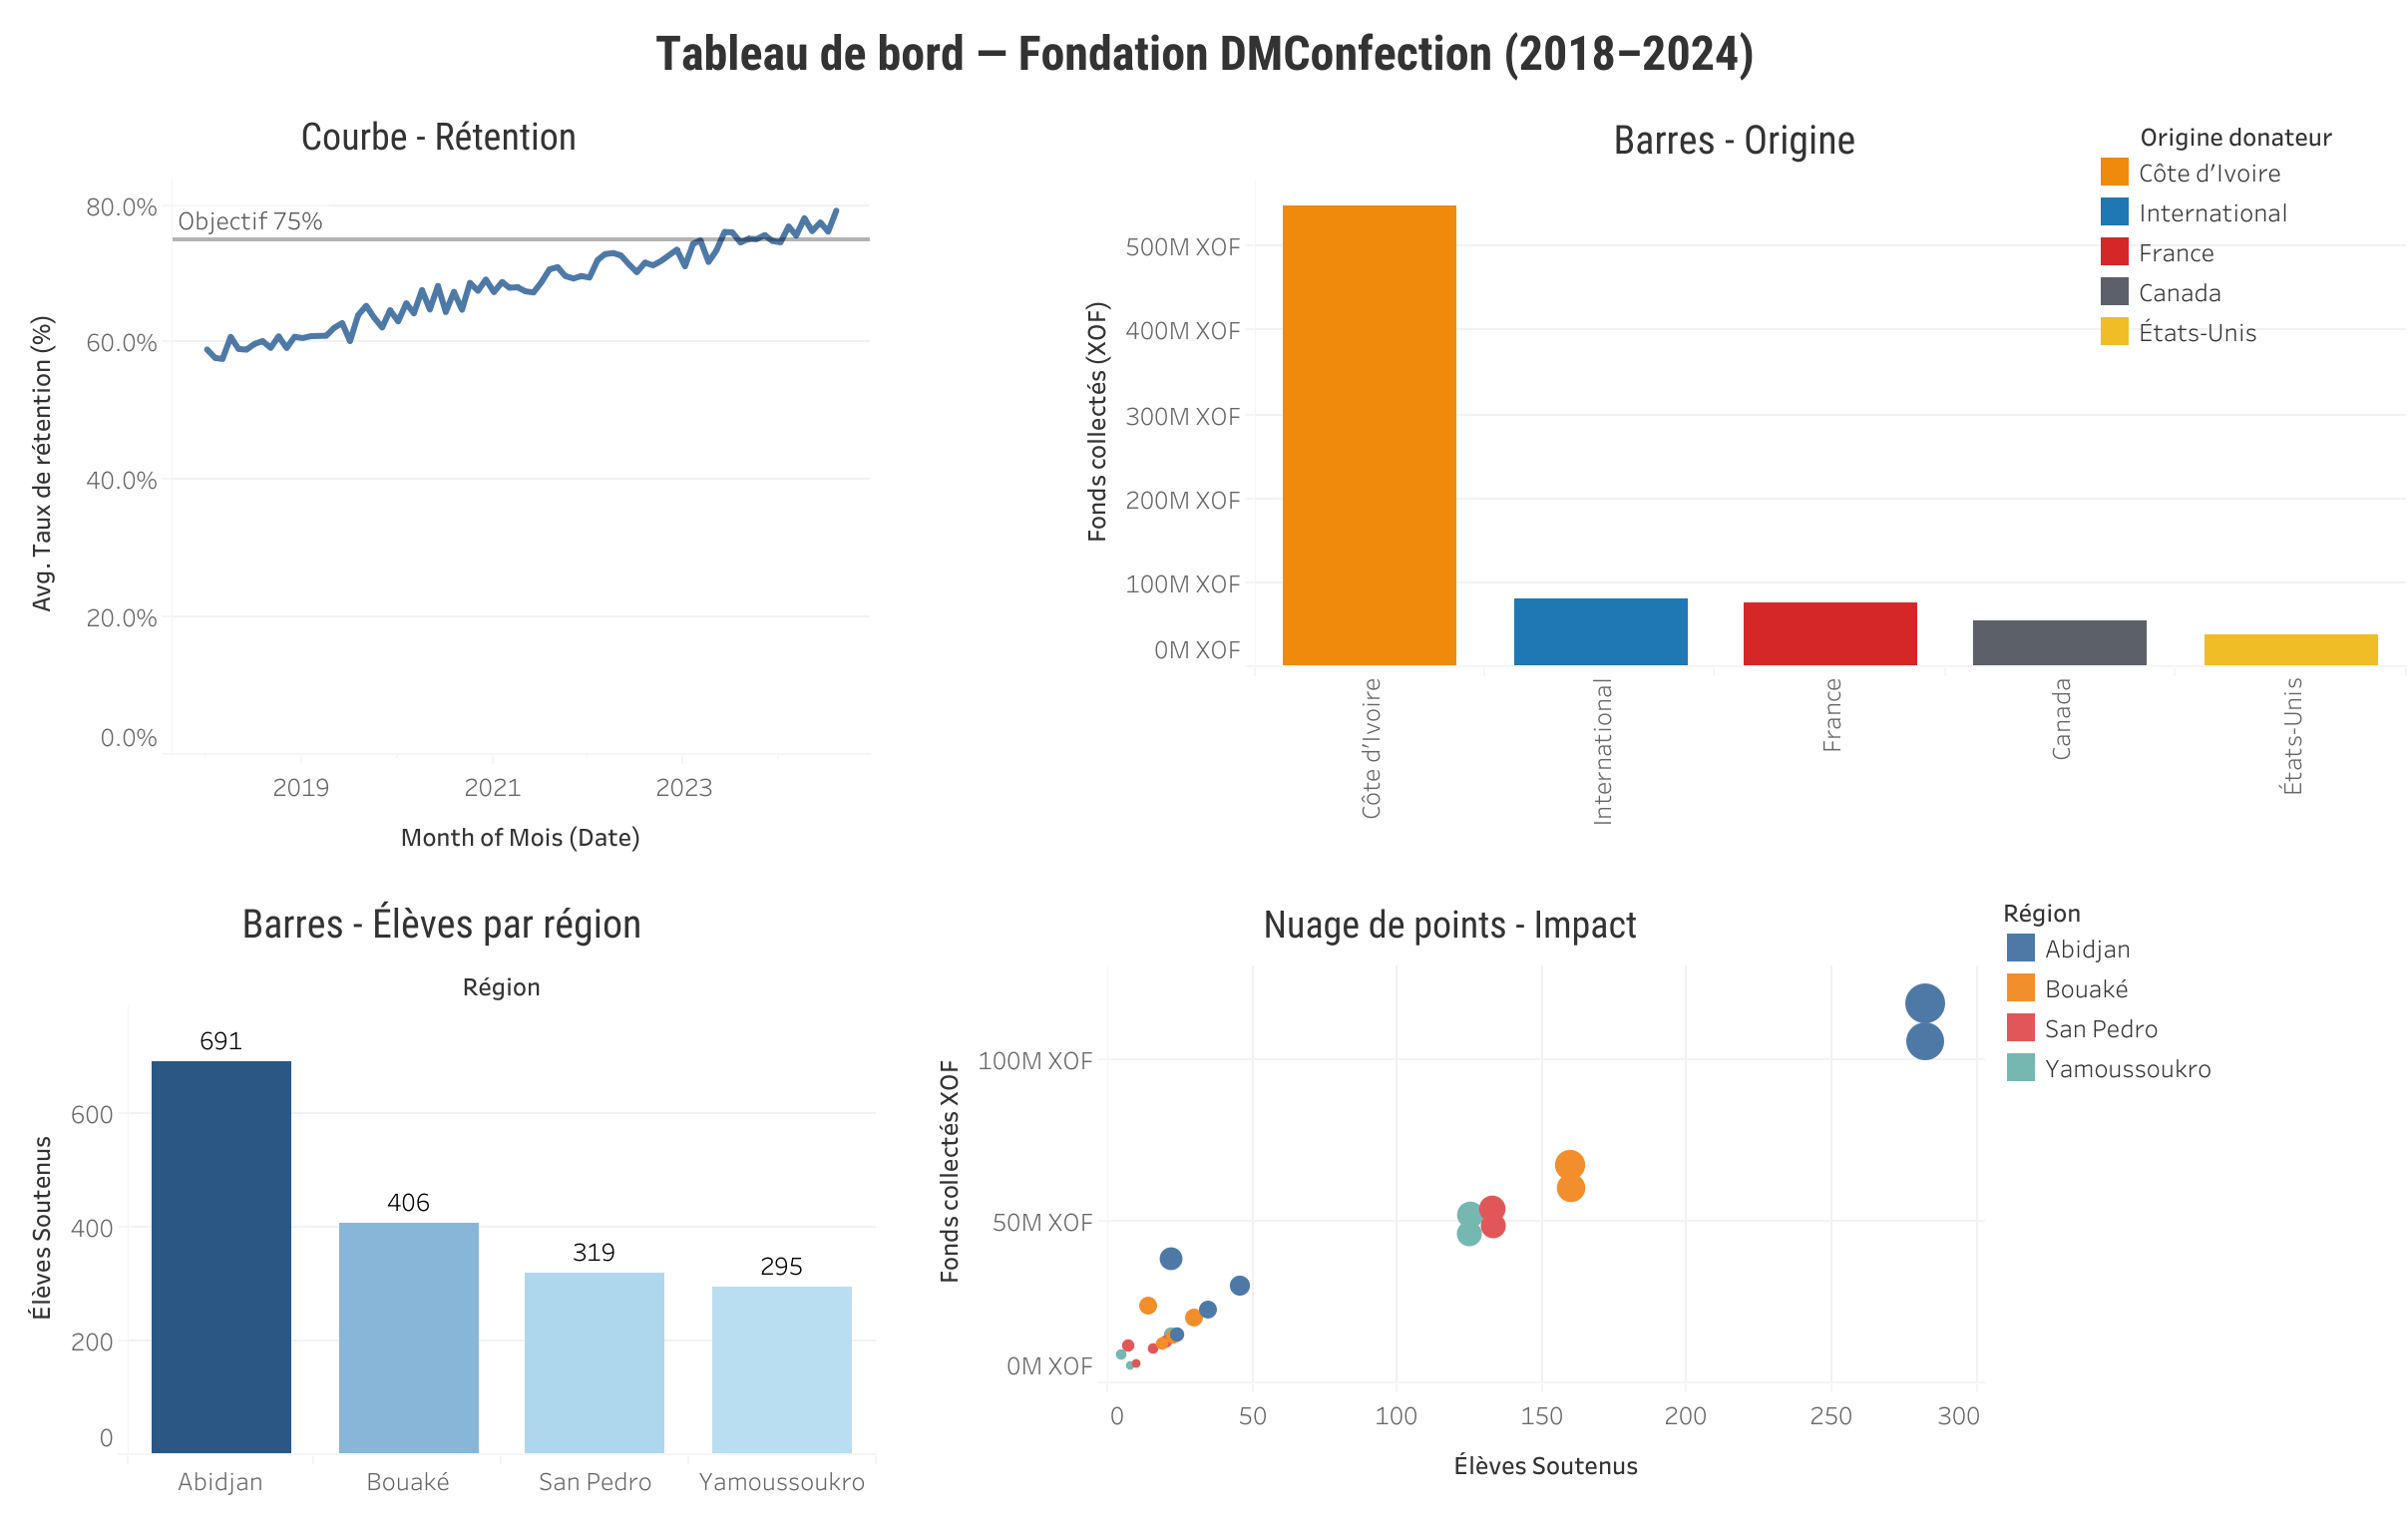

The page's visual inventory and layout, read from the dashboard file:
{"tool":"tableau","page":{"name":"Dashboard 1","canvas":[1208,768],"ordinal":0},"visuals":[{"type":"title","box":[8,8,1192,37]},{"type":"worksheet","title":"Courbe - Rétention","mark":"Line","rows":["Calculation_1125957194387773"],"cols":["Calculation_1125957192806715"],"box":[0,47,440,392]},{"type":"worksheet","title":"Barres - Origine financement","mark":"Bar","rows":["Fonds_collectés_XOF"],"cols":["Origine_donateur"],"box":[529,48,681,390]},{"type":"legend","title":"Barres - Origine financement","param":"[federated.153ti0b18874ak123w6o80tx917v].[none:Origine_donateur:nk]","box":[1050,57,140,119]},{"type":"text","box":[351.6,85,118,30]},{"type":"worksheet","title":"Barres - Élèves par région","mark":"Automatic","rows":["Élèves_soutenus"],"cols":["Région"],"box":[0,441,443,314]},{"type":"worksheet","title":"Nuage de points - Impact","mark":"Circle","rows":["Fonds_collectés_XOF"],"cols":["Élèves_soutenus"],"box":[455,442,544,312]},{"type":"legend","title":"Nuage de points - Impact","param":"[federated.153ti0b18874ak123w6o80tx917v].[none:Région:nk]","box":[999,442,208,312]}]}

Visuals, with their boxes in screenshot pixels (x1, y1, x2, y2), scaled from the page's 1208x768 canvas onto the 2408x1530 screenshot:
title: [x1=16, y1=16, x2=2392, y2=90]
"Courbe - Rétention" worksheet (Line marks): [x1=0, y1=94, x2=877, y2=875]
"Barres - Origine financement" worksheet (Bar marks): [x1=1054, y1=96, x2=2407, y2=873]
"Barres - Origine financement" legend: [x1=2093, y1=114, x2=2372, y2=351]
text: [x1=701, y1=170, x2=936, y2=229]
"Barres - Élèves par région" worksheet: [x1=0, y1=879, x2=883, y2=1504]
"Nuage de points - Impact" worksheet (Circle marks): [x1=907, y1=881, x2=1991, y2=1502]
"Nuage de points - Impact" legend: [x1=1991, y1=881, x2=2406, y2=1502]
